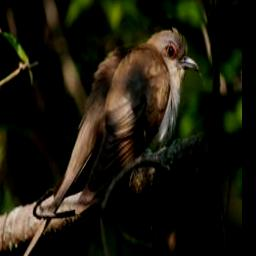Cuckoo: (1, 24, 201, 256)
